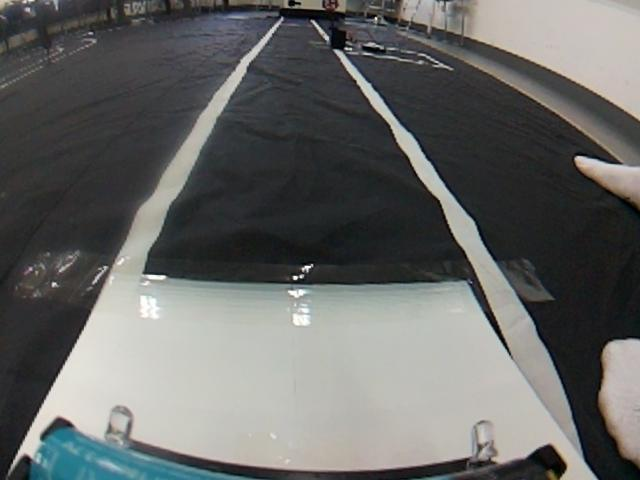hill_down: (4, 263, 640, 480)
